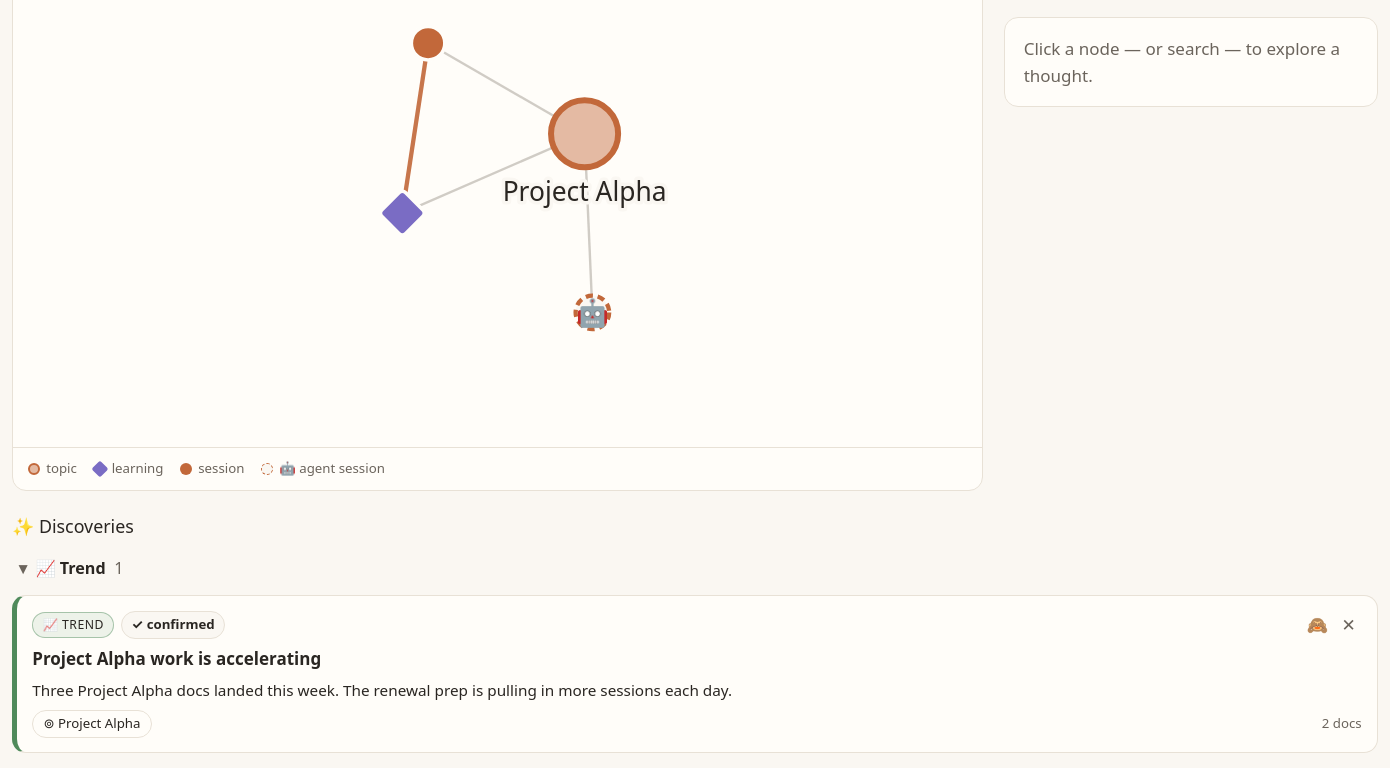
Test: BrainView discoveries › a topic chip selects that topic in the detail panel
(page scrolled)
Click the button "⊚ Project Alpha". click: click(92, 724)
box: [32,710,152,738]
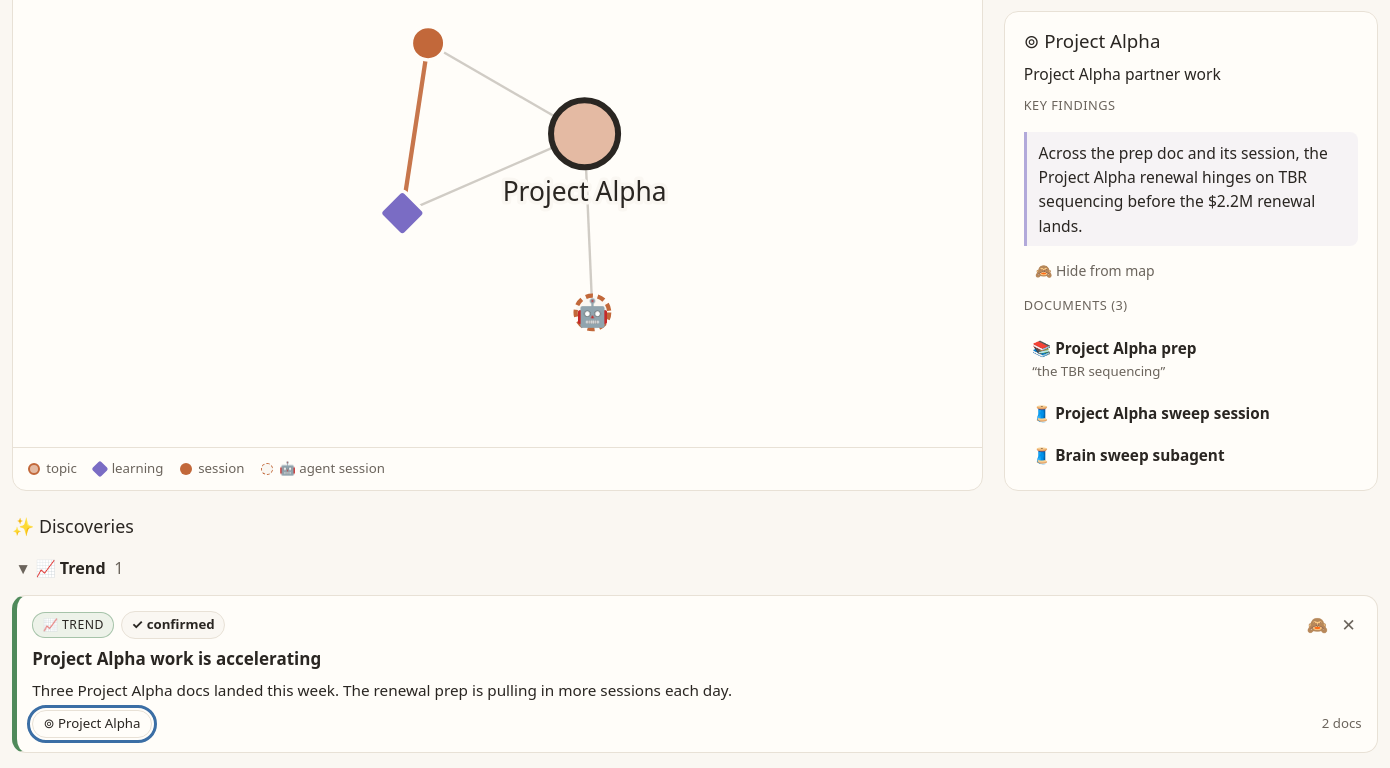
Expected: the text "Project Alpha partner work" is shown, [1024,62,1221,84]
